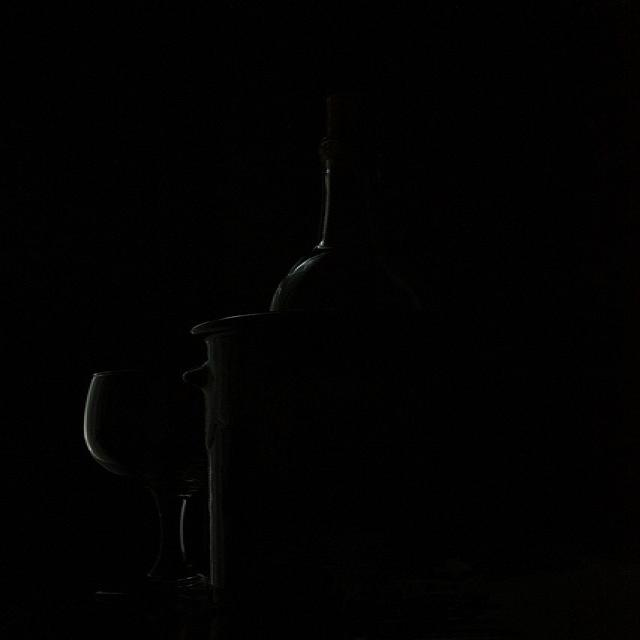Bottle: (265, 72, 564, 640)
Cup: (70, 340, 240, 609)
